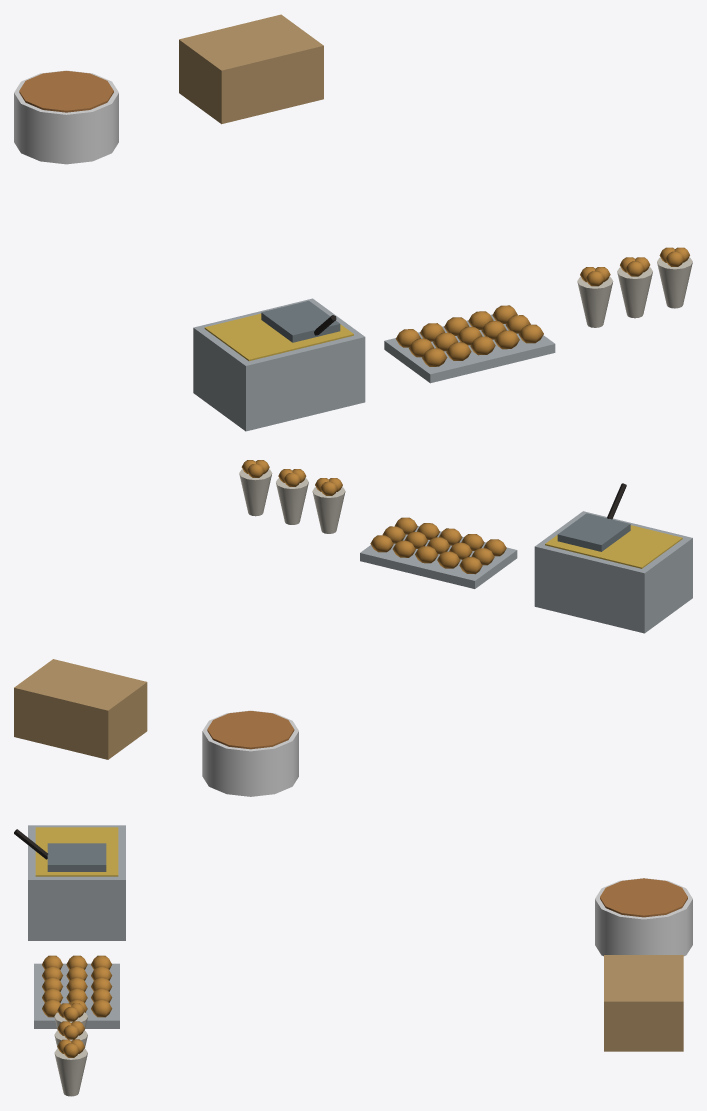
The model's file is goods_karaage.glb.
The picture shows the model from 3 angles, top to bottom: view 1: azimuth 30°, elevation 25°; view 2: azimuth 150°, elevation 25°; view 3: azimuth 270°, elevation 25°; orthographic projection. The views are drawn at different scales.
Parts seen in each view (by area): view 1: goods_karaage; view 2: goods_karaage; view 3: goods_karaage.
Boxes of the visible parts, x1,y1,x2,y2 form: goods_karaage: (14, 14, 692, 431); goods_karaage: (14, 460, 692, 796); goods_karaage: (14, 825, 692, 1096).
Size of the model in its own units: 1.64 by 0.3421 by 2.22.
